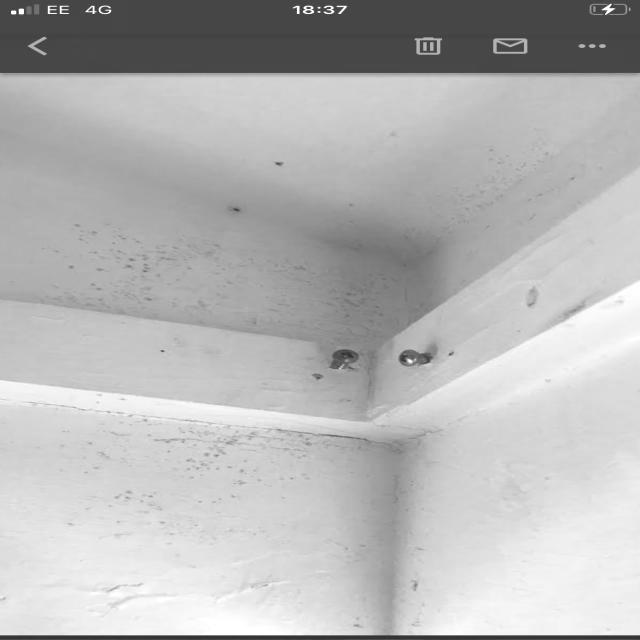pin holes: (220, 198, 249, 222), (441, 343, 463, 368), (270, 152, 290, 178)
stain marks: (22, 192, 436, 640), (408, 77, 640, 280)
